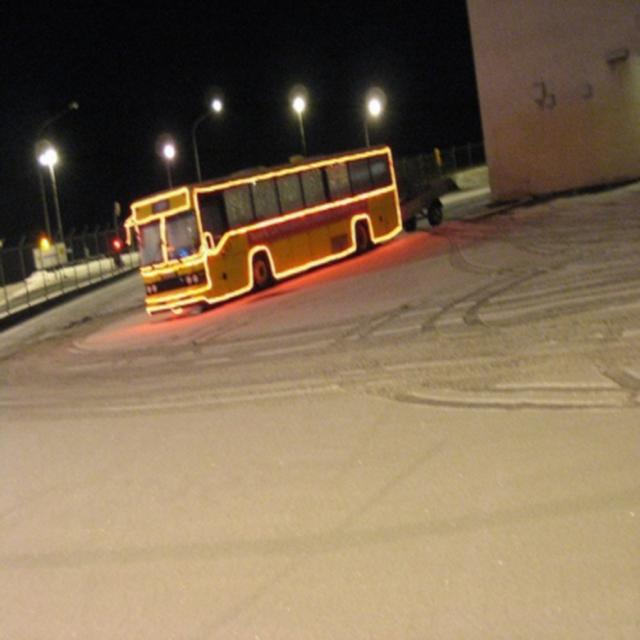bus: (123, 144, 401, 318)
